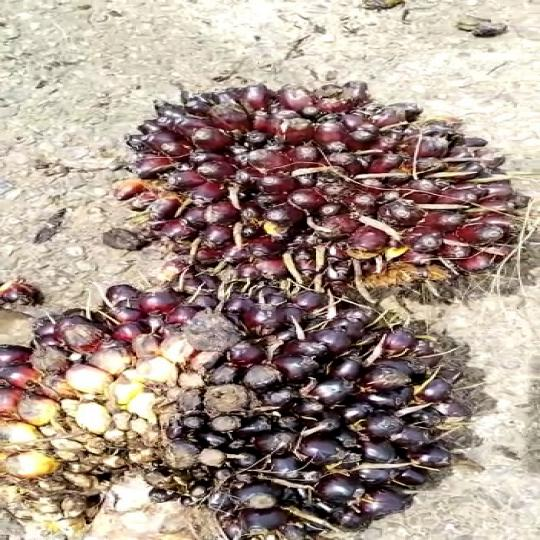mentah: (0, 269, 504, 540), (133, 75, 540, 313)
